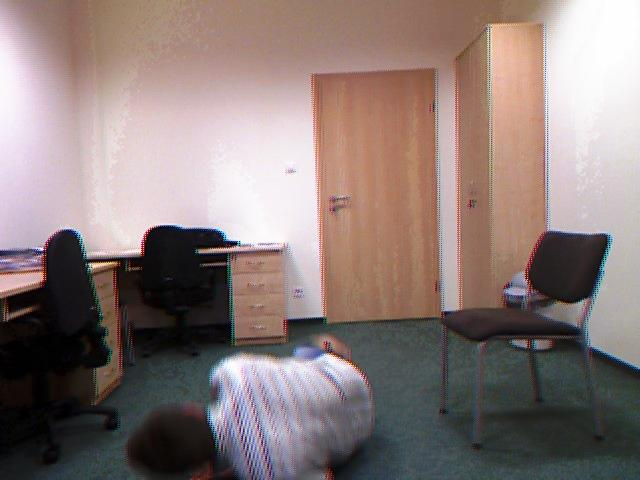fall: (132, 340, 394, 480)
